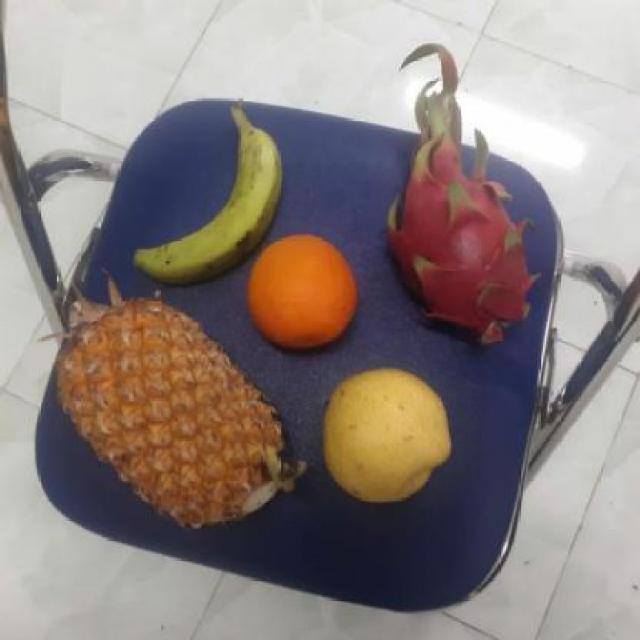banana: (130, 106, 282, 288)
dragon fruit: (377, 136, 545, 349)
oren: (244, 229, 364, 351)
pear: (316, 368, 452, 502)
pineapple: (50, 302, 295, 533)
